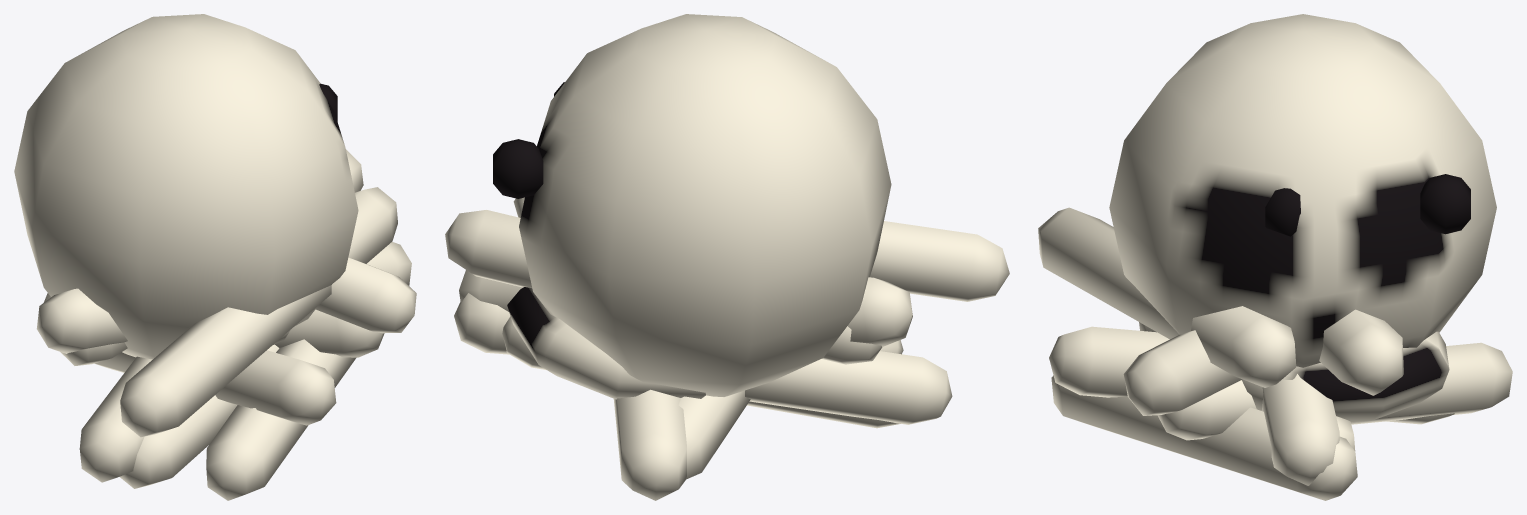
File: prop_bonepiletrue_9013.glb
3 views of the same model, side by side, from view 1: azimuth 30°, elevation 25°; view 2: azimuth 150°, elevation 25°; view 3: azimuth 270°, elevation 25° (orthographic). The views are drawn at different scales.
Parts seen in each view (by area): view 1: prop_bonepiletrue_9013; view 2: prop_bonepiletrue_9013; view 3: prop_bonepiletrue_9013.
Part boxes in pixels (bbox=[...]): prop_bonepiletrue_9013: bbox=[14, 14, 416, 500]; prop_bonepiletrue_9013: bbox=[445, 14, 1009, 500]; prop_bonepiletrue_9013: bbox=[1038, 14, 1512, 500].
Size of the model in its own units: 0.4606 by 0.4349 by 0.4437.
Materials: 1 (1 with a texture image).
